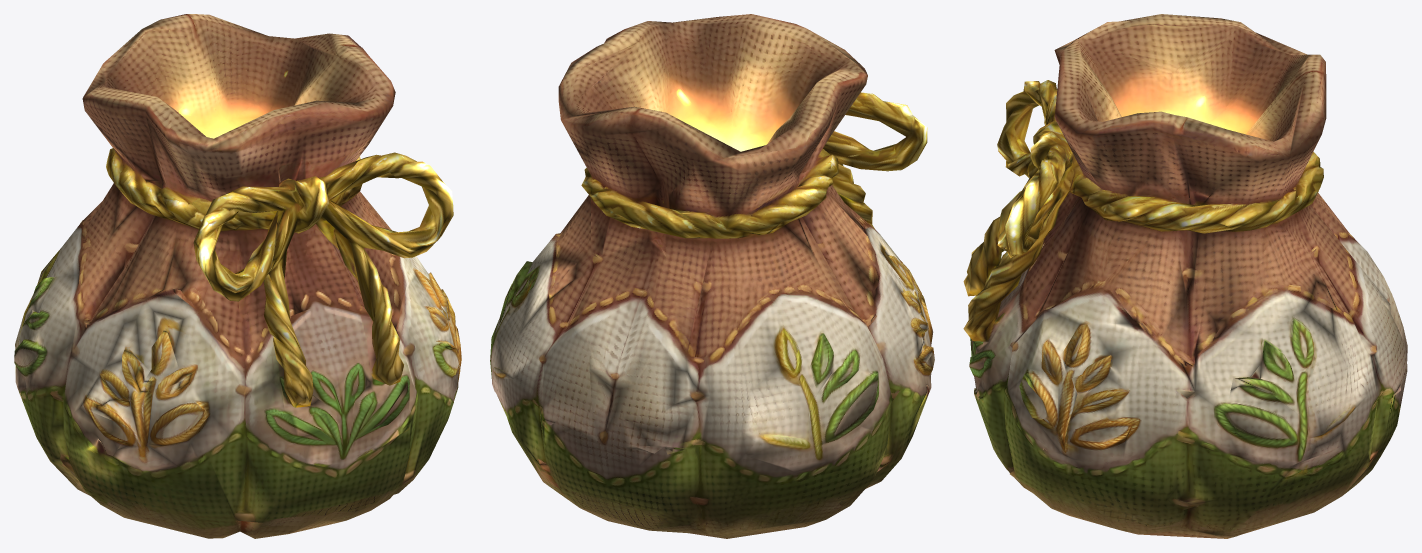
File: Meshy_AI_Golden_Rope_Sack_Vase_0722081313_texture.glb
3 renders of one model, left to right at view 1: azimuth 30°, elevation 25°; view 2: azimuth 150°, elevation 25°; view 3: azimuth 270°, elevation 25°, orthographic.
Parts seen in each view (by area): view 1: mesh_node; view 2: mesh_node; view 3: mesh_node.
Part boxes in pixels (box(x1,y1,x2,y2)): mesh_node: box(14, 14, 461, 538); mesh_node: box(490, 14, 934, 538); mesh_node: box(963, 14, 1407, 538).
Size of the model in its own units: 1.8 by 1.89 by 1.84.
Materials: 1 (1 with a texture image).
